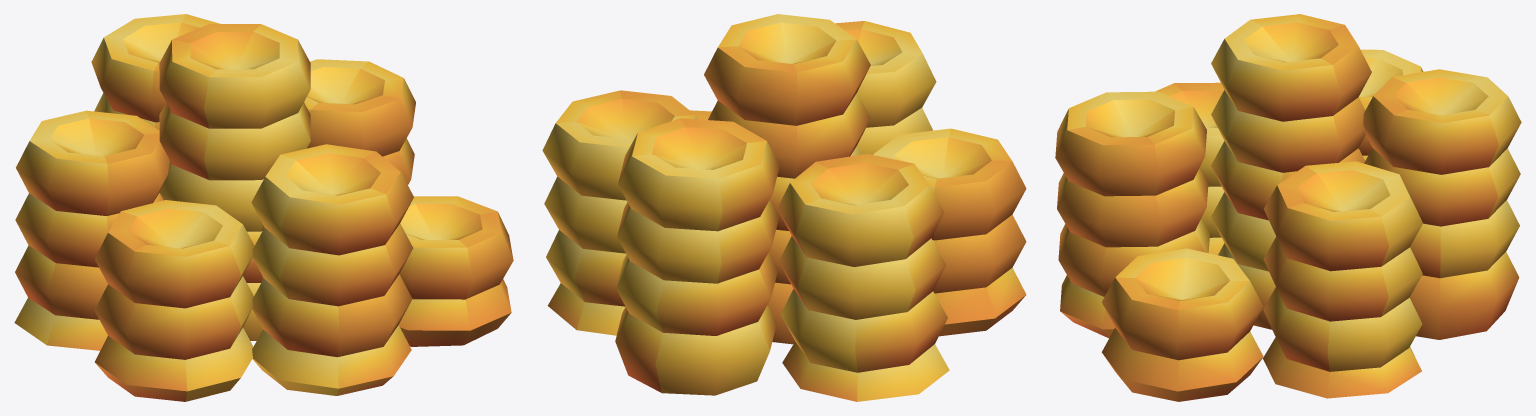
The model's file is coin_stack_medium.glb.
The picture shows the model from 3 angles, left to right: view 1: azimuth 30°, elevation 25°; view 2: azimuth 150°, elevation 25°; view 3: azimuth 270°, elevation 25°; orthographic projection. The views are drawn at different scales.
Parts seen in each view (by area): view 1: coin_stack_medium; view 2: coin_stack_medium; view 3: coin_stack_medium.
Part boxes in pixels (x1,y1,x2,y2): coin_stack_medium: [14, 14, 513, 401]; coin_stack_medium: [542, 14, 1026, 401]; coin_stack_medium: [1055, 14, 1521, 401].
Size of the model in its own units: 0.9934 by 0.6407 by 1.03.
Materials: 1 (1 with a texture image).
